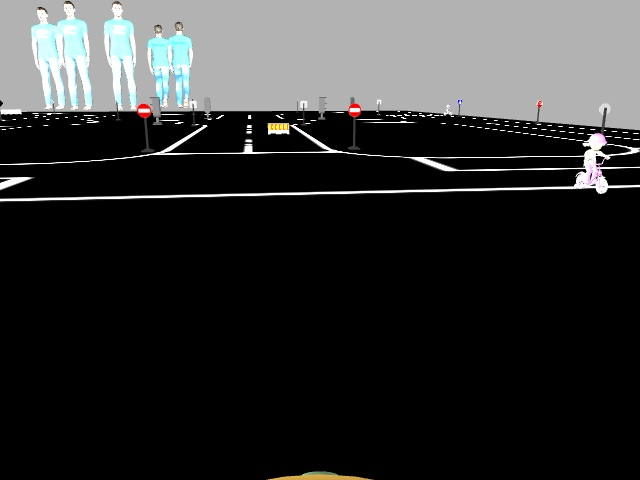ClosedRoadStand: (267, 122, 289, 134)
NoEntry: (136, 105, 151, 118), (347, 104, 361, 117)
Pedestrian: (578, 133, 607, 191)
